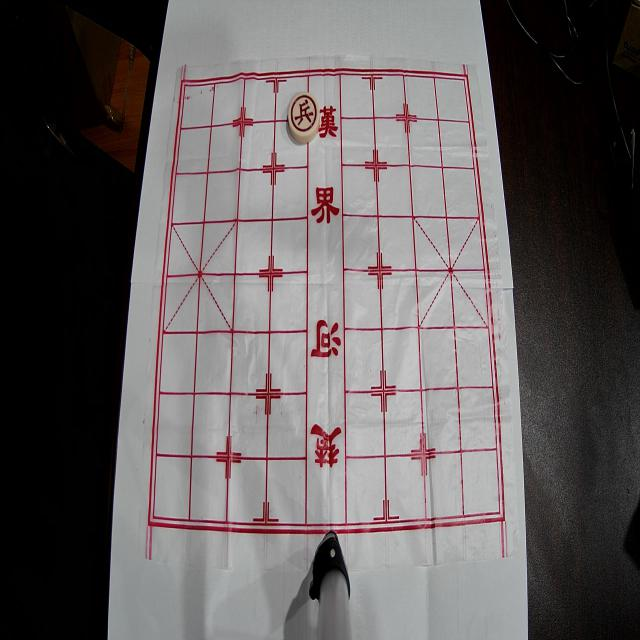red-soldier: (288, 93, 320, 143)
